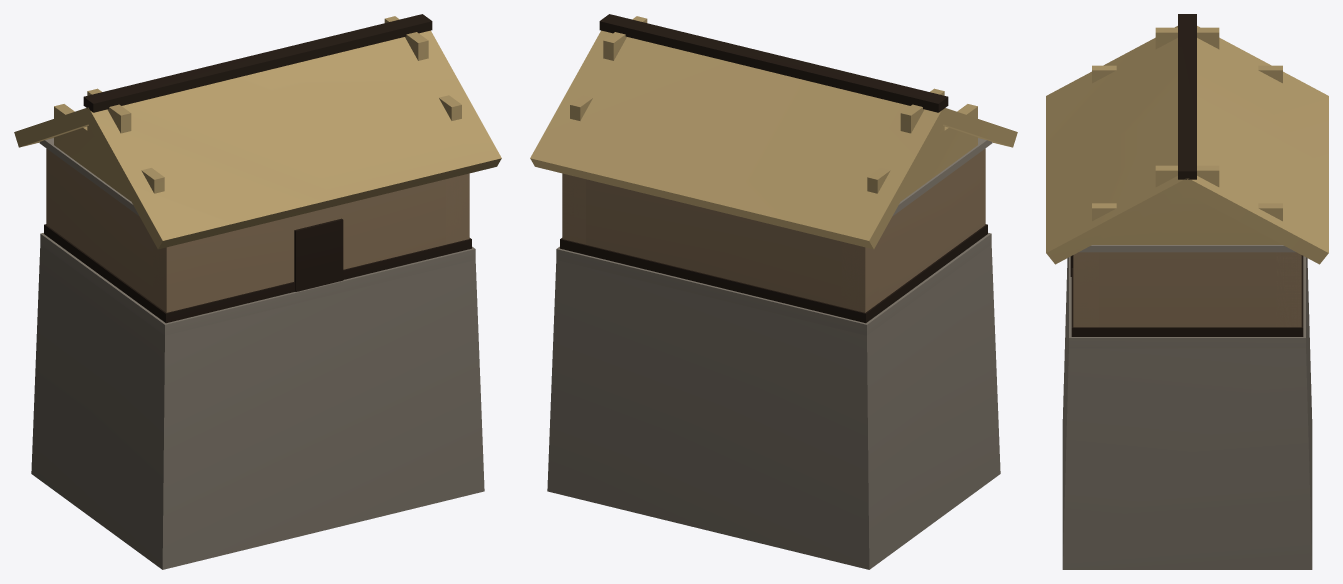
File: killke_house_earth_lod1.glb
The picture shows the model from 3 angles, left to right: view 1: azimuth 30°, elevation 25°; view 2: azimuth 150°, elevation 25°; view 3: azimuth 270°, elevation 25°; orthographic projection. The views are drawn at different scales.
Parts seen in each view (by area): view 1: GEO-Arch_killke_house_earth_LOD1; view 2: GEO-Arch_killke_house_earth_LOD1; view 3: GEO-Arch_killke_house_earth_LOD1.
Boxes of the visible parts, x1,y1,x2,y2 form: GEO-Arch_killke_house_earth_LOD1: (14,14,501,569); GEO-Arch_killke_house_earth_LOD1: (530,14,1017,569); GEO-Arch_killke_house_earth_LOD1: (1046,14,1328,569).
Bounding box in the file's own units: 7.16 × 8.55 × 5.44.
